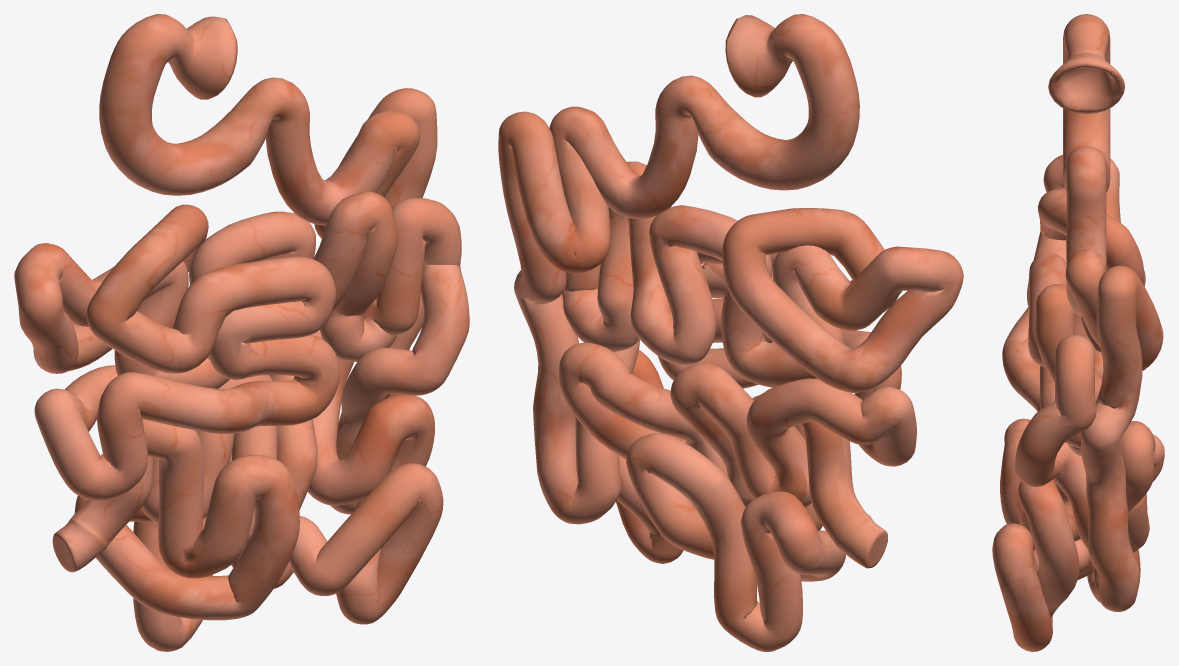
Rendered from intestine.glb.
3 views of the same model, side by side, from view 1: azimuth 30°, elevation 25°; view 2: azimuth 150°, elevation 25°; view 3: azimuth 270°, elevation 25° (orthographic). The views are drawn at different scales.
Visible parts, largest first — view 1: Tunntarm; view 2: Tunntarm; view 3: Tunntarm.
Part boxes in pixels (<box>): Tunntarm: <box>14,14,469,651</box>; Tunntarm: <box>498,14,963,651</box>; Tunntarm: <box>992,14,1164,651</box>.
Bounding box in the file's own units: 1.04 × 1.46 × 0.3958.
Materials: 1 (1 with a texture image).
